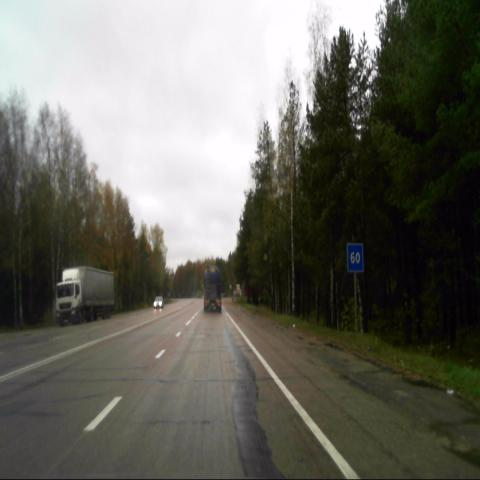6_2: (347, 244, 363, 274)
